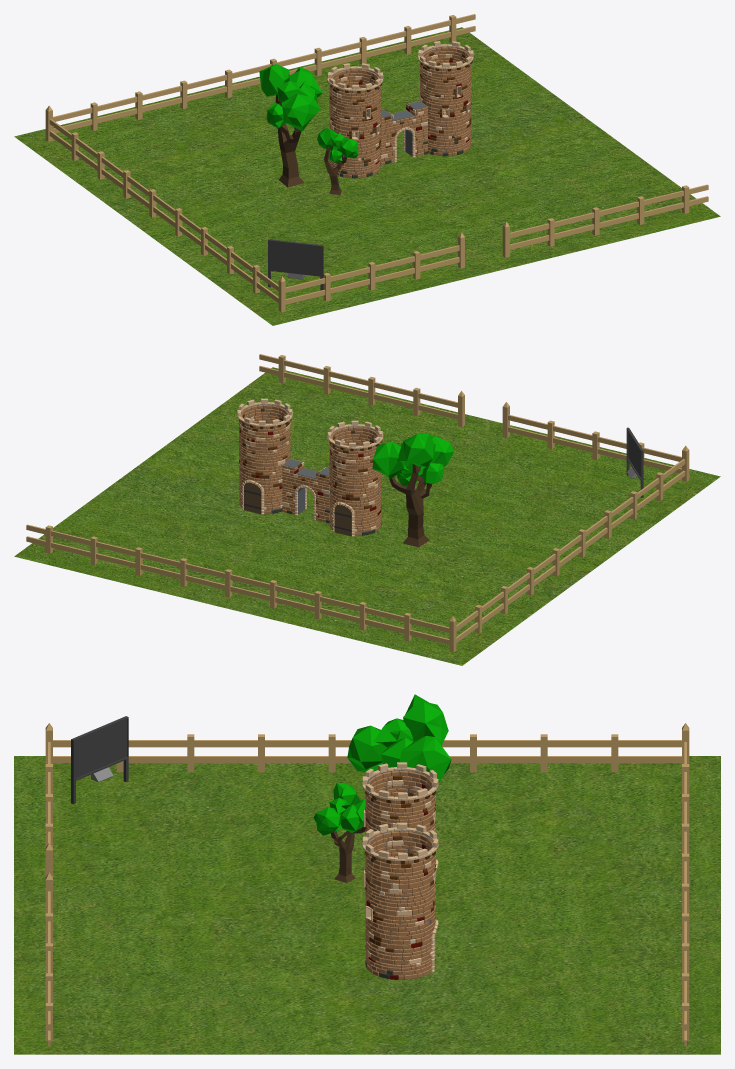
Rendered from region-0.glb.
3 views of the same model, one above another, from view 1: azimuth 30°, elevation 25°; view 2: azimuth 150°, elevation 25°; view 3: azimuth 270°, elevation 25° (orthographic). The views are drawn at different scales.
Parts seen in each view (by area): view 1: base, low-poly-tree-1, fence-mid-piece-x5.002, fence-mid-piece-x4, fence-mid-piece-x5.001, wall-section-with-doorway, top-section-with-crenellation, top-section-with-crenellation.001, fence-mid-piece-x3, fence-mid-piece-x3.003, info-board-assembly-large, mid-section-with-three-slits.001 (+9 smaller); view 2: base, low-poly-tree-1, fence-mid-piece-x5.002, fence-mid-piece-x4, fence-mid-piece-x5.001, wall-section-with-doorway, top-section-with-crenellation.001, fence-mid-piece-x3.003, top-section-with-crenellation, mid-section-with-three-slits, mid-section-with-three-slits.001, fence-mid-piece-x3 (+9 smaller); view 3: base, low-poly-tree-1, fence-mid-piece-x5.001, top-section-with-crenellation.001, top-section-with-crenellation, fence-mid-piece-x3.001, mid-section-with-three-slits.001, base-section-with-doorway.001, info-board-assembly-large, low-poly-tree-1.001, fence-mid-piece-x5.002, fence-mid-piece-x4 (+5 smaller).
Boxes of the visible parts, x1,y1,x2,y2 form: base: (14, 27, 720, 325); low-poly-tree-1: (259, 64, 322, 187); fence-mid-piece-x5.002: (71, 58, 296, 130); fence-mid-piece-x4: (295, 14, 475, 76); fence-mid-piece-x5.001: (139, 184, 269, 295); wall-section-with-doorway: (380, 101, 427, 165); top-section-with-crenellation: (327, 63, 383, 107); top-section-with-crenellation.001: (418, 41, 473, 85); fence-mid-piece-x3: (304, 250, 439, 301); fence-mid-piece-x3.003: (528, 195, 663, 246); info-board-assembly-large: (268, 239, 323, 290); mid-section-with-three-slits.001: (420, 65, 471, 120); base: (14, 367, 720, 665); low-poly-tree-1: (372, 432, 454, 547); fence-mid-piece-x5.002: (205, 568, 430, 641); fence-mid-piece-x4: (26, 524, 206, 586); fence-mid-piece-x5.001: (543, 467, 673, 578); wall-section-with-doorway: (282, 459, 330, 523); top-section-with-crenellation.001: (237, 398, 292, 443); fence-mid-piece-x3.003: (304, 365, 439, 416); top-section-with-crenellation: (327, 420, 383, 465); mid-section-with-three-slits: (329, 445, 381, 500); mid-section-with-three-slits.001: (239, 423, 290, 478); fence-mid-piece-x3: (528, 419, 663, 469); base: (14, 756, 720, 1054); low-poly-tree-1: (347, 694, 451, 782); fence-mid-piece-x5.001: (116, 734, 351, 772); top-section-with-crenellation.001: (362, 822, 438, 883); top-section-with-crenellation: (362, 762, 438, 823); fence-mid-piece-x3.001: (442, 734, 650, 772); mid-section-with-three-slits.001: (364, 856, 435, 931); base-section-with-doorway.001: (365, 918, 438, 979); info-board-assembly-large: (71, 716, 128, 804); low-poly-tree-1.001: (313, 782, 365, 882); fence-mid-piece-x5.002: (682, 755, 689, 913); fence-mid-piece-x4: (682, 904, 689, 1046).
Size of the model in its own units: 20 by 4.98 by 20.
Materials: 47 (1 with a texture image).
